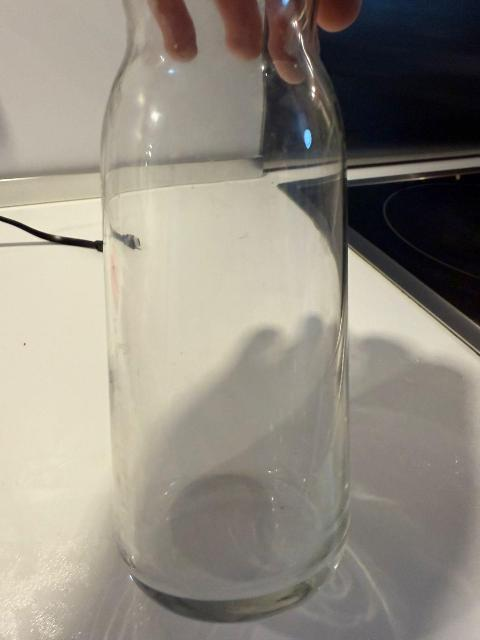Cam: (90, 0, 361, 614)
